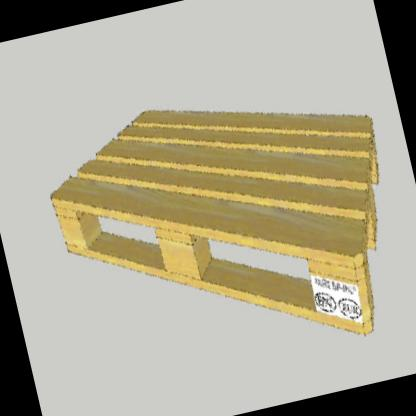BoxFace: (49, 102, 382, 343)
